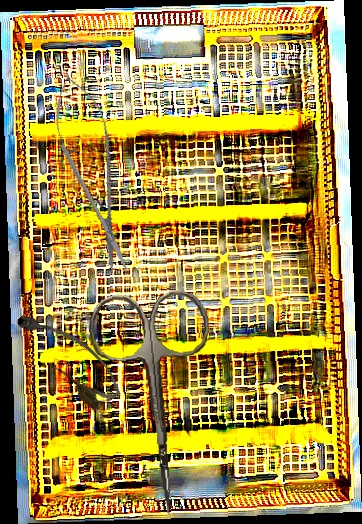Cannula: (9, 296, 129, 416)
Iris Scissors: (86, 287, 227, 521)
Micro Scissor: (41, 68, 146, 280)
